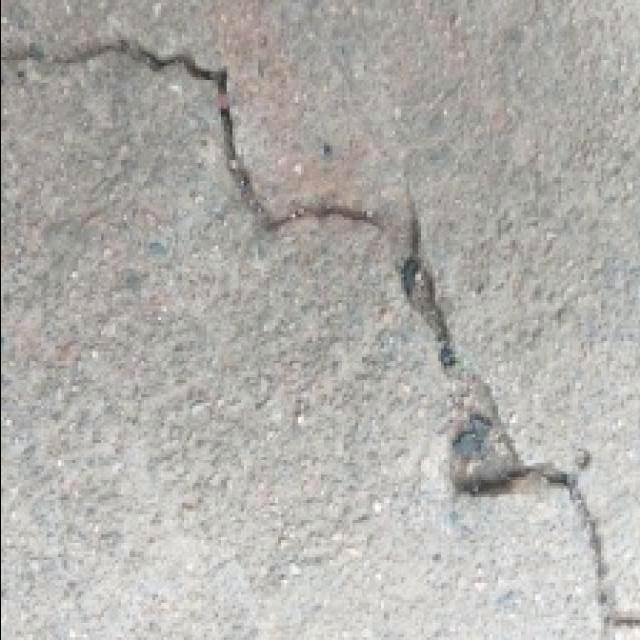SurfaceCrack: (6, 16, 636, 640)
